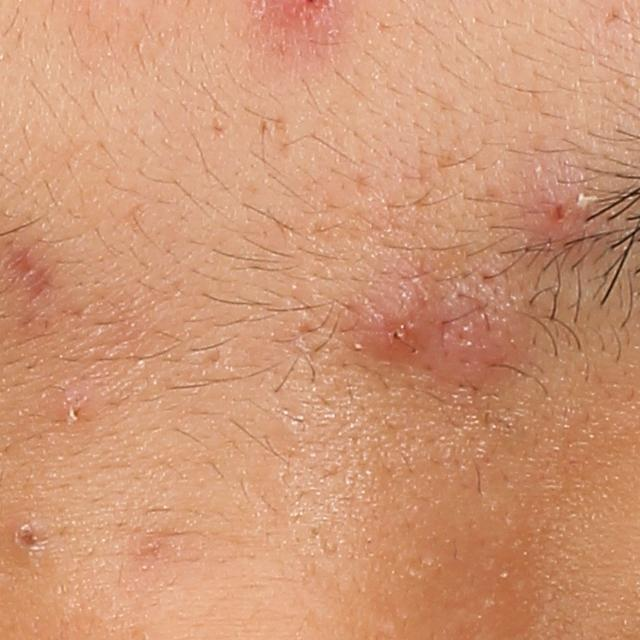papule: (437, 283, 517, 389), (351, 283, 440, 363)
